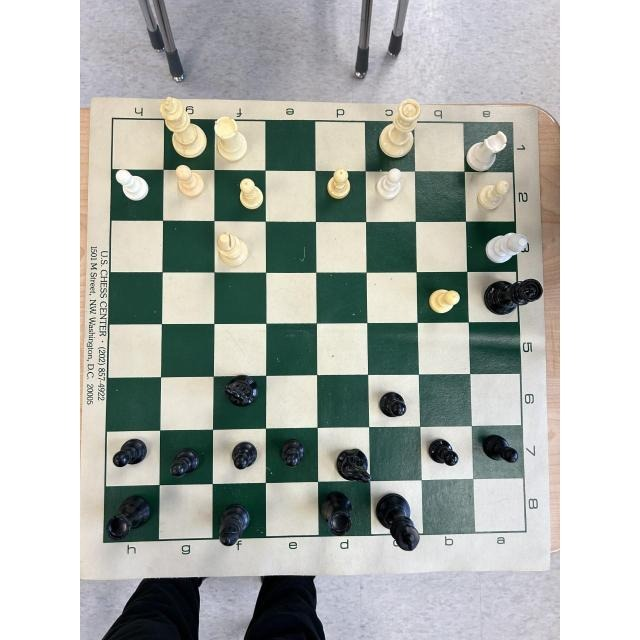black-bishop: (211, 483, 266, 549)
black-knight: (316, 426, 377, 486), (211, 369, 268, 424)
black-pawn: (105, 429, 161, 485), (419, 425, 474, 479), (212, 428, 265, 483), (472, 426, 524, 478), (265, 428, 316, 480), (367, 375, 419, 425), (161, 429, 208, 483)
black-queen: (470, 276, 546, 324)
black-rook: (315, 484, 371, 537), (106, 486, 158, 538)
white-bishop: (466, 223, 530, 272), (212, 220, 268, 273), (417, 272, 468, 321)
white-king: (365, 97, 426, 168), (152, 95, 212, 163)
white-pawn: (107, 163, 162, 221), (163, 161, 215, 222), (314, 164, 368, 221), (365, 163, 416, 221), (463, 170, 514, 222), (218, 166, 266, 221)
white-rook: (459, 117, 518, 175), (211, 107, 266, 169)
